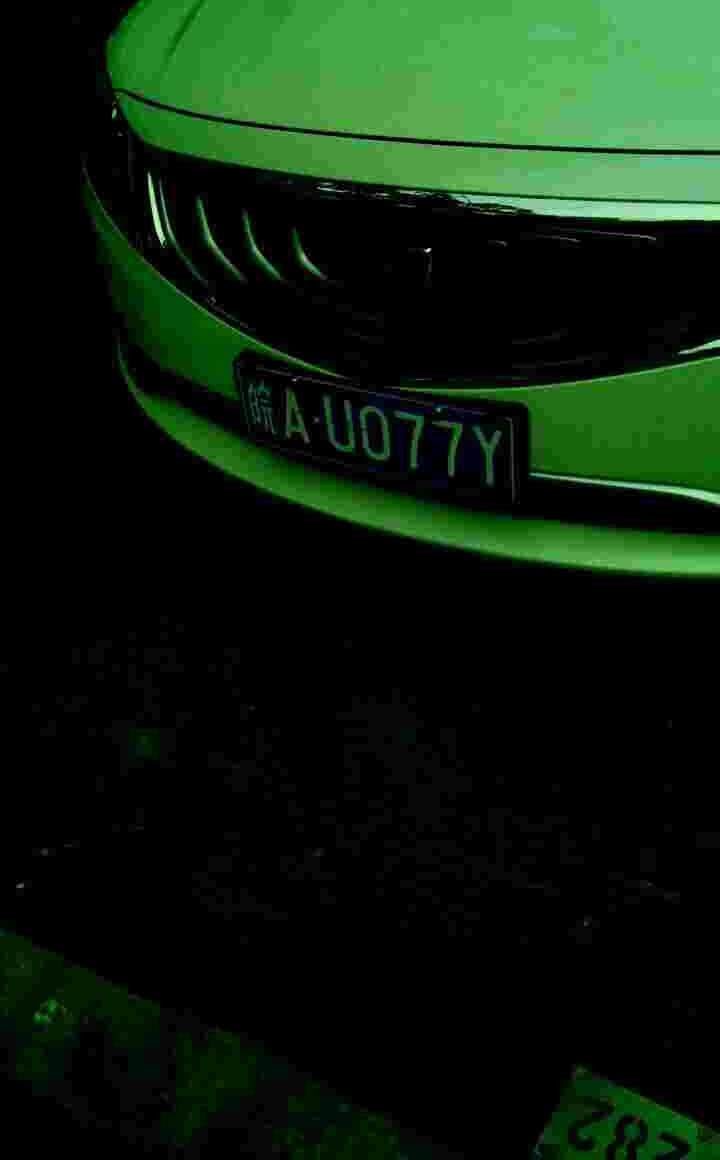license_plate: (225, 366, 525, 473)
